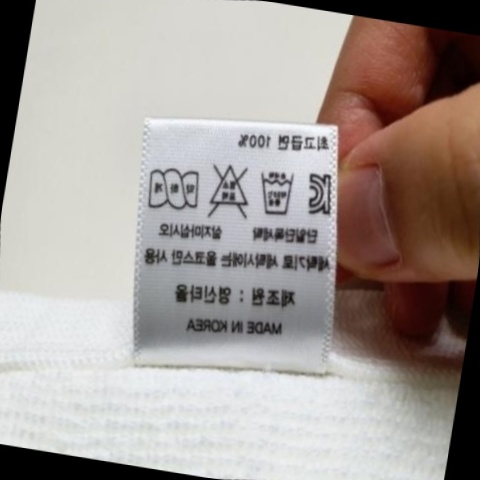hand_wash: (247, 164, 303, 225)
non_chlorine_bleach: (196, 153, 260, 227)
wring: (141, 160, 208, 219)
